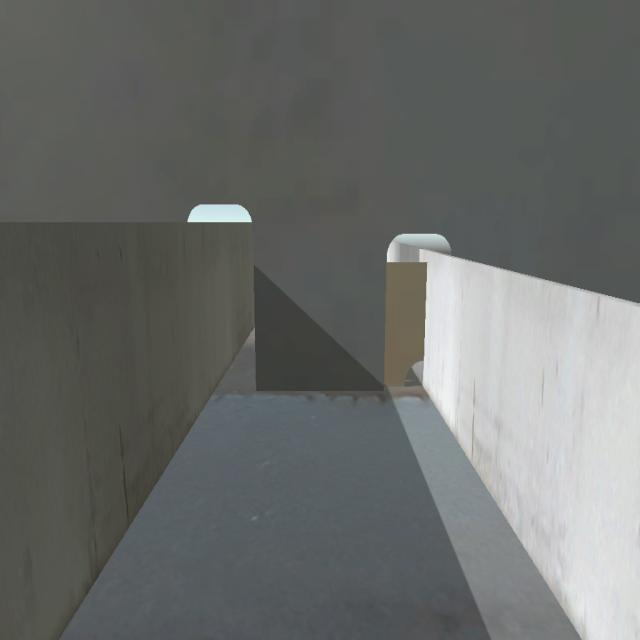fillet_hole: (398, 352, 428, 394)
fillet_yong_jeop_jang: (256, 380, 406, 395)
longi_yong_jeop_jang: (420, 258, 441, 366)
plate_behind: (383, 260, 428, 397)
